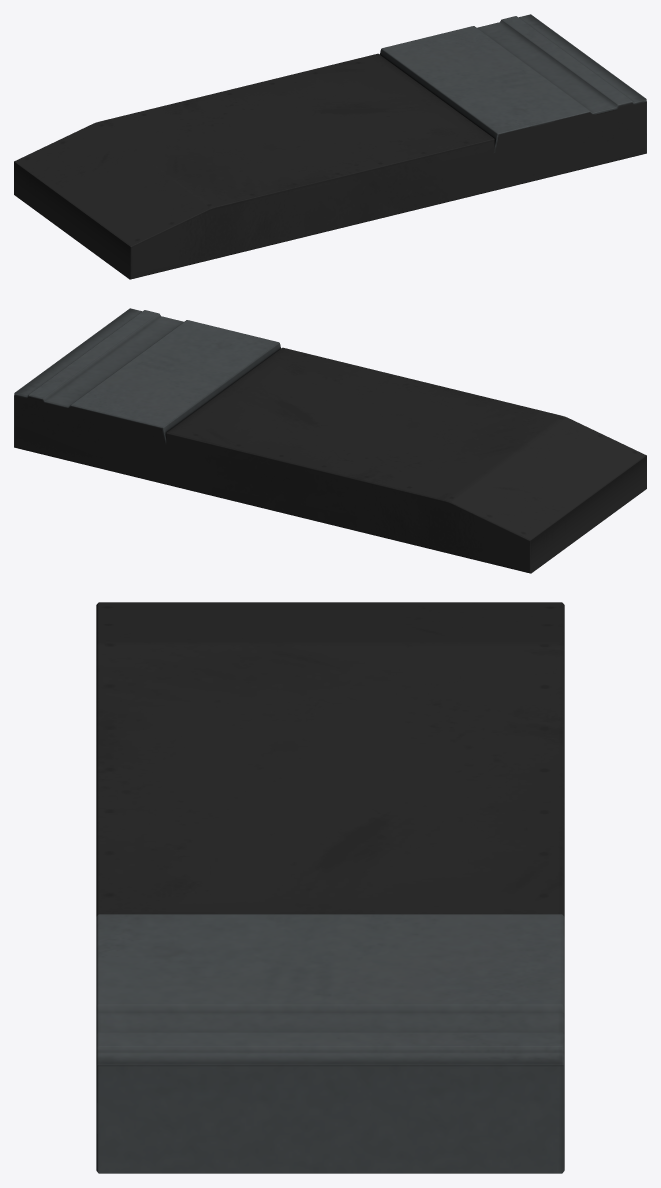
File: SM_HangarBigDoorFloor.fbx
3 renders of one model, top to bottom at view 1: azimuth 30°, elevation 25°; view 2: azimuth 150°, elevation 25°; view 3: azimuth 270°, elevation 25°, orthographic. The views are drawn at different scales.
Parts seen in each view (by area): view 1: SM_HangarBigDoorFloor_LOD0; view 2: SM_HangarBigDoorFloor_LOD0; view 3: SM_HangarBigDoorFloor_LOD0.
Part boxes in pixels (box(x1,y1,x2,y2)): SM_HangarBigDoorFloor_LOD0: box(14, 14, 646, 279); SM_HangarBigDoorFloor_LOD0: box(14, 308, 646, 573); SM_HangarBigDoorFloor_LOD0: box(96, 602, 564, 1173).
Bounding box in the file's own units: 510 × 200 × 53.56.
Materials: 2 (1 with a texture image).
